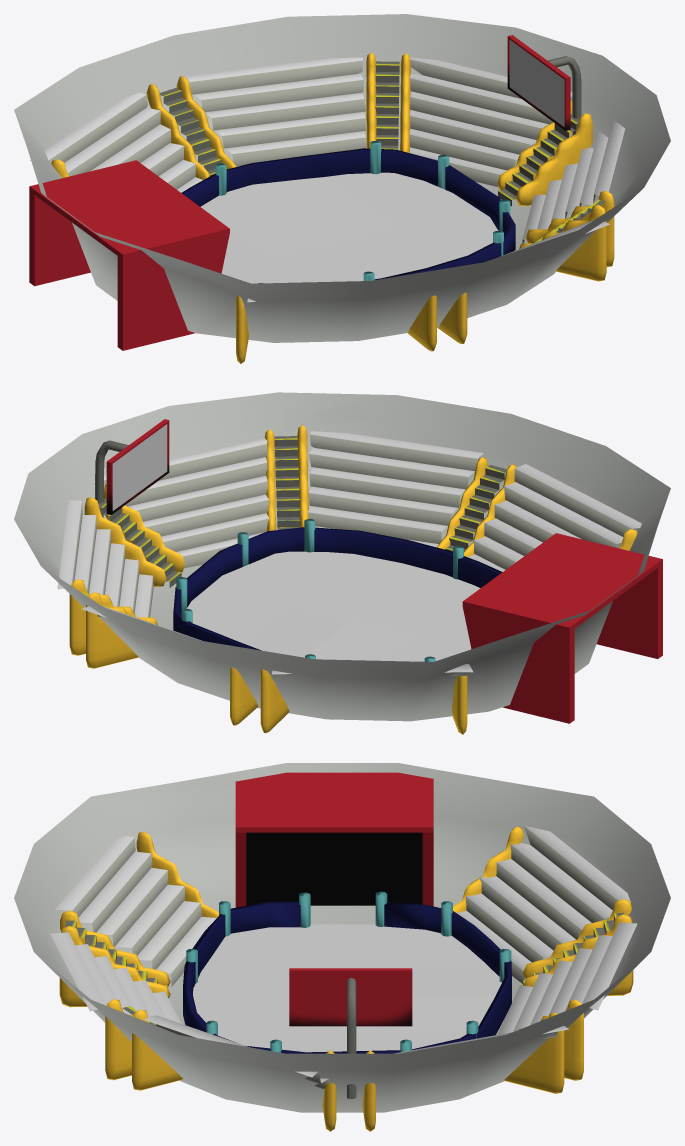
Rendered from stadium2.fbx.
3 renders of one model, top to bottom at view 1: azimuth 30°, elevation 25°; view 2: azimuth 150°, elevation 25°; view 3: azimuth 270°, elevation 25°, orthographic. The views are drawn at different scales.
Visible parts, largest first — view 1: StadiumWalls, Seats, PlayingField, Tunnel, StepRail, StadiumBarrier, Steps, BillboardScreen, BillboardSurround, StadiumBarrier_010; view 2: StadiumWalls, Seats, PlayingField, Tunnel, StepRail, StadiumBarrier, Steps, BillboardScreen, BillboardSurround, StadiumBarrier_010; view 3: StadiumWalls, Seats, Tunnel, PlayingField, StepRail, StadiumBarrier, BillboardSurround, StadiumBarrier_010, Steps.
Boxes of the visible parts, x1=… form: StadiumWalls: x1=14, y1=14, x2=670, y2=342; Seats: x1=30, y1=57, x2=625, y2=302; PlayingField: x1=200, y1=172, x2=497, y2=283; Tunnel: x1=29, y1=160, x2=229, y2=350; StepRail: x1=51, y1=52, x2=614, y2=363; StadiumBarrier: x1=181, y1=148, x2=515, y2=279; Steps: x1=159, y1=61, x2=605, y2=243; BillboardScreen: x1=509, y1=40, x2=564, y2=126; BillboardSurround: x1=507, y1=35, x2=581, y2=134; StadiumBarrier_010: x1=215, y1=141, x2=510, y2=283; StadiumWalls: x1=14, y1=392, x2=670, y2=721; Seats: x1=57, y1=431, x2=641, y2=677; PlayingField: x1=187, y1=551, x2=480, y2=661; Tunnel: x1=462, y1=533, x2=662, y2=723; StepRail: x1=69, y1=425, x2=637, y2=734; StadiumBarrier: x1=173, y1=527, x2=502, y2=650; Steps: x1=81, y1=436, x2=506, y2=607; BillboardScreen: x1=112, y1=424, x2=167, y2=510; BillboardSurround: x1=95, y1=419, x2=169, y2=517; StadiumBarrier_010: x1=176, y1=519, x2=463, y2=661; StadiumWalls: x1=14, y1=763, x2=670, y2=1112; Seats: x1=50, y1=825, x2=637, y2=1088; Tunnel: x1=235, y1=772, x2=433, y2=907; PlayingField: x1=193, y1=924, x2=501, y2=1052; StepRail: x1=59, y1=826, x2=633, y2=1131; StadiumBarrier: x1=183, y1=901, x2=511, y2=1053; BillboardSurround: x1=289, y1=968, x2=412, y2=1099; StadiumBarrier_010: x1=186, y1=891, x2=511, y2=1052; Steps: x1=65, y1=912, x2=624, y2=1025.
Bounding box in the file's own units: 27.38 × 7 × 26.18.
6 materials, 3 textured.
